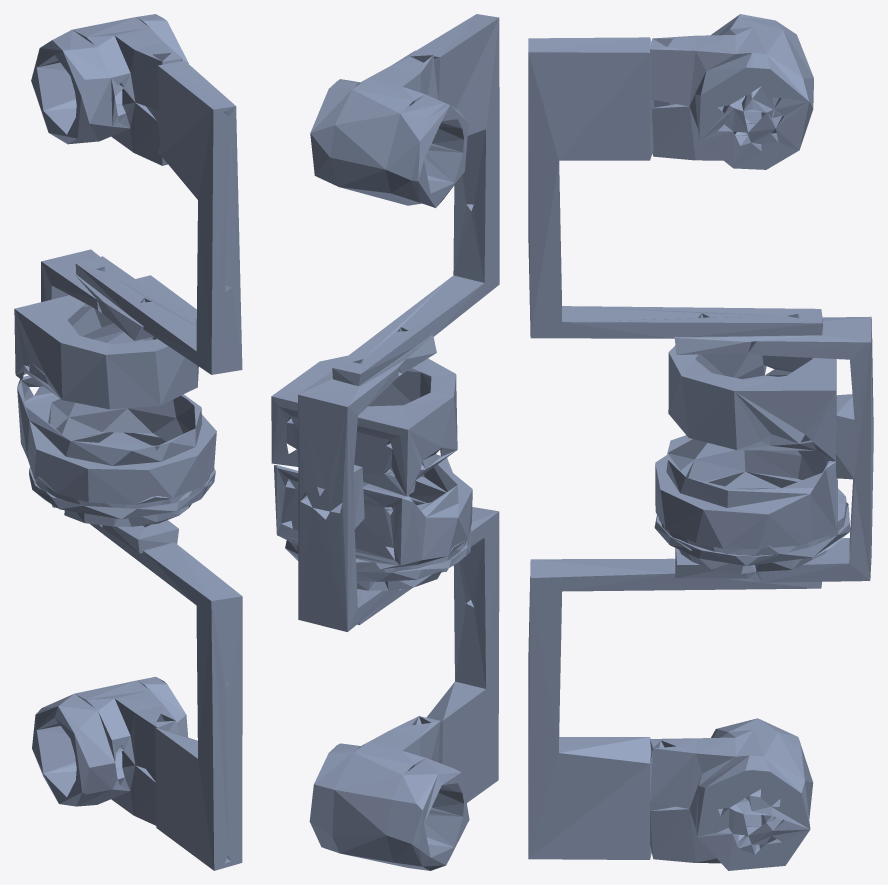
The model's file is eyes_tilt.dae.
The picture shows the model from 3 angles, left to right: view 1: azimuth 30°, elevation 25°; view 2: azimuth 150°, elevation 25°; view 3: azimuth 270°, elevation 25°; orthographic projection. The views are drawn at different scales.
Parts seen in each view (by area): view 1: M3; view 2: M3; view 3: M3.
Boxes of the visible parts, x1,y1,x2,y2 form: M3: [14, 14, 242, 870]; M3: [271, 14, 499, 870]; M3: [528, 14, 873, 870].
Bounding box in the file's own units: 0.0527 × 0.0908 × 0.2361.
